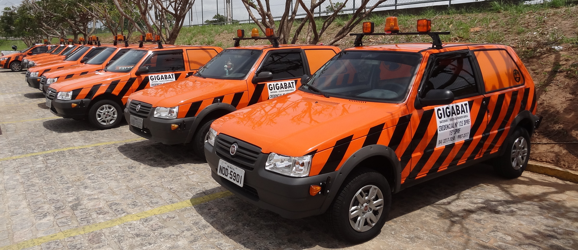car: (210, 41, 552, 239), (124, 46, 318, 157)
car_plate: (215, 156, 245, 187)
